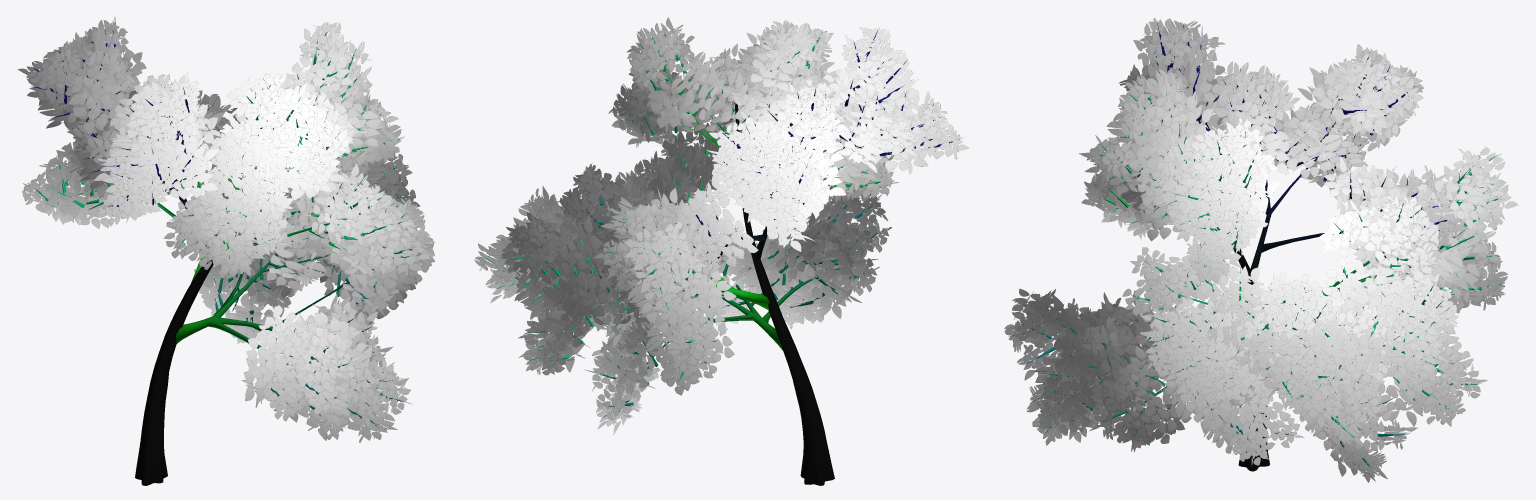
The model's file is tree2.fbx.
3 renders of one model, left to right at view 1: azimuth 30°, elevation 25°; view 2: azimuth 150°, elevation 25°; view 3: azimuth 270°, elevation 25°, orthographic. The views are drawn at different scales.
Parts seen in each view (by area): view 1: leaf4_1, _0; view 2: leaf4_1, _0; view 3: leaf4_1, _0.
Boxes of the visible parts, box(x1,y1,x2,y2) form: leaf4_1: box(18, 16, 435, 442); _0: box(29, 25, 426, 485); leaf4_1: box(474, 17, 969, 434); _0: box(480, 29, 959, 485); leaf4_1: box(1004, 18, 1517, 482); _0: box(1008, 21, 1504, 473).
Bounding box in the file's own units: 747 × 760 × 818.
